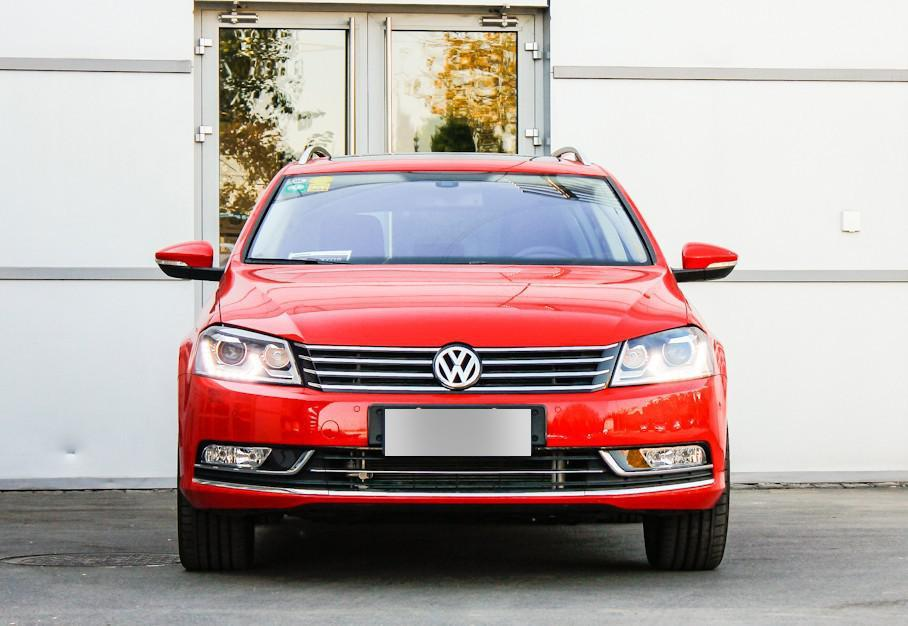Wagon: (153, 144, 740, 572)
